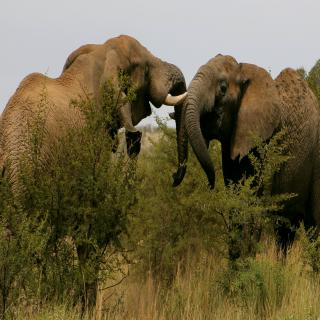Elephant: (0, 25, 189, 275), (184, 46, 320, 282)
